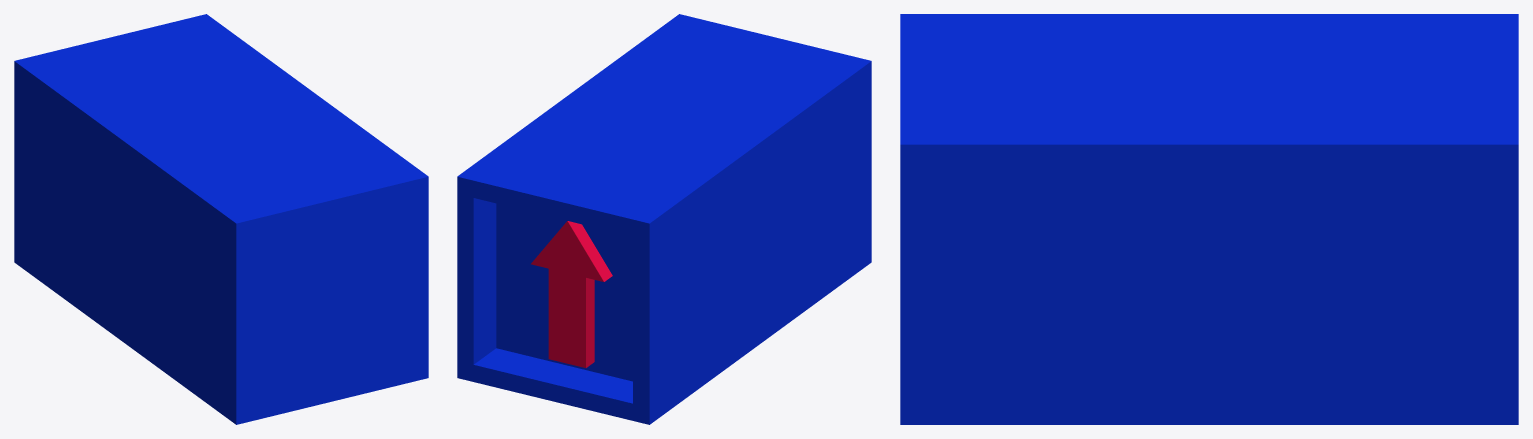
The model's file is lvl3_groundTop.fbx.
3 renders of one model, left to right at view 1: azimuth 30°, elevation 25°; view 2: azimuth 150°, elevation 25°; view 3: azimuth 270°, elevation 25°, orthographic. The views are drawn at different scales.
Parts seen in each view (by area): view 1: pCube10; view 2: pCube10; view 3: pCube10.
Boxes of the visible parts, left/top/right/bottom form: pCube10: left=14, top=14, right=428, bottom=424; pCube10: left=457, top=14, right=871, bottom=424; pCube10: left=900, top=14, right=1518, bottom=424.
Bounding box in the file's own units: 100 × 100 × 200.
